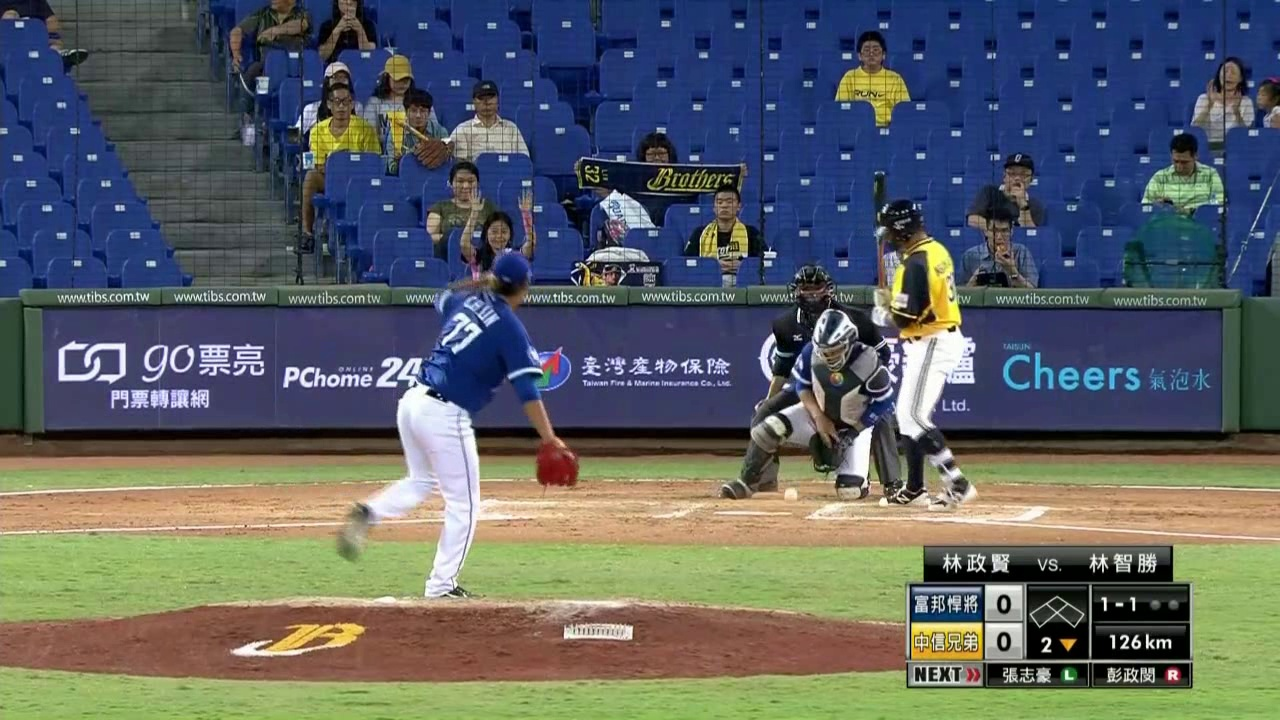ball: (781, 485, 799, 504)
base: (1027, 595, 1086, 628)
bat: (871, 167, 892, 293)
out: (1144, 590, 1188, 619)
score1: (987, 588, 1021, 621)
score2: (987, 628, 1019, 659)
session: (1027, 630, 1086, 659)
speed: (1093, 628, 1186, 656)
strikeball: (1095, 588, 1143, 621)
